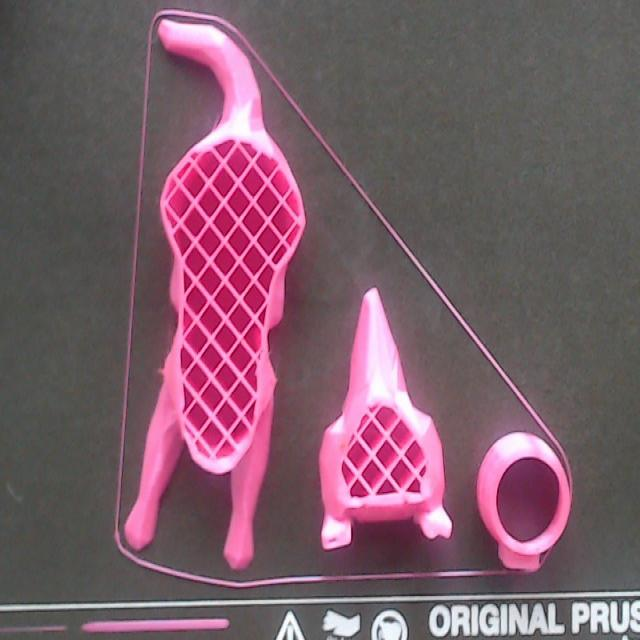mistake: (157, 361, 164, 384)
